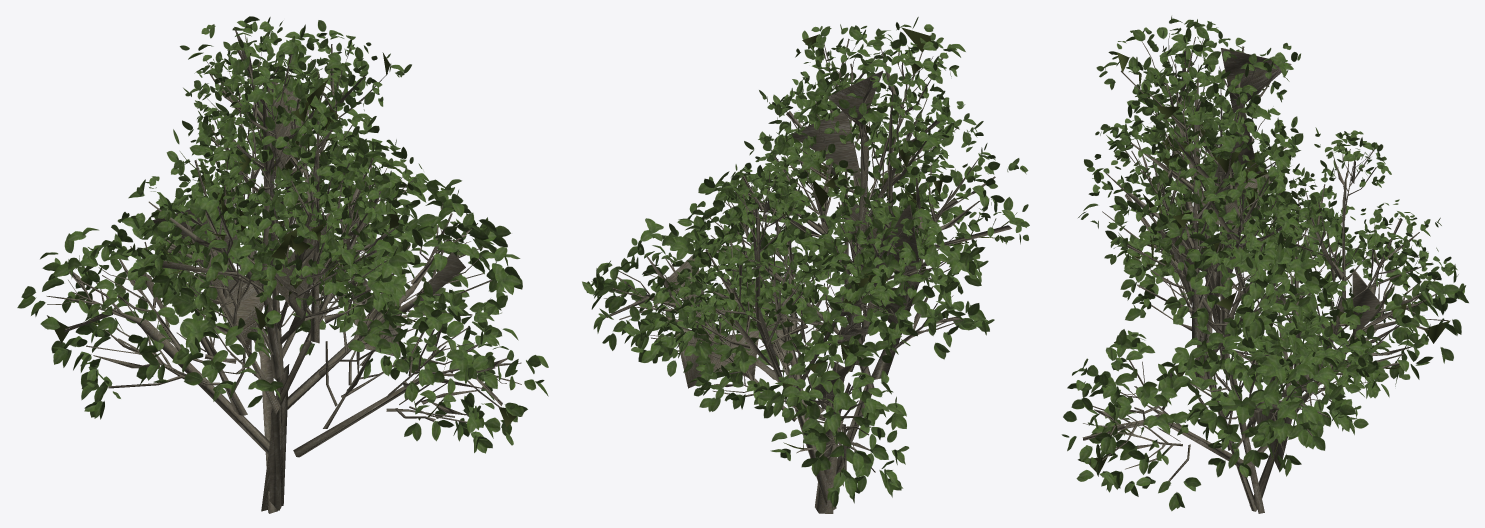
File: banyan_b.glb
3 views of the same model, side by side, from view 1: azimuth 30°, elevation 25°; view 2: azimuth 150°, elevation 25°; view 3: azimuth 270°, elevation 25° (orthographic). The views are drawn at different scales.
Parts seen in each view (by area): view 1: FBX_AS06_FicusBenghalensis_9_w; view 2: FBX_AS06_FicusBenghalensis_9_w; view 3: FBX_AS06_FicusBenghalensis_9_w.
Boxes of the visible parts, left/top/right/bottom form: FBX_AS06_FicusBenghalensis_9_w: left=17, top=16, right=548, bottom=513; FBX_AS06_FicusBenghalensis_9_w: left=582, top=17, right=1029, bottom=513; FBX_AS06_FicusBenghalensis_9_w: left=1061, top=16, right=1468, bottom=513.
Size of the model in its own units: 11.37 by 12.74 by 10.07.
4 materials, 4 textured.
